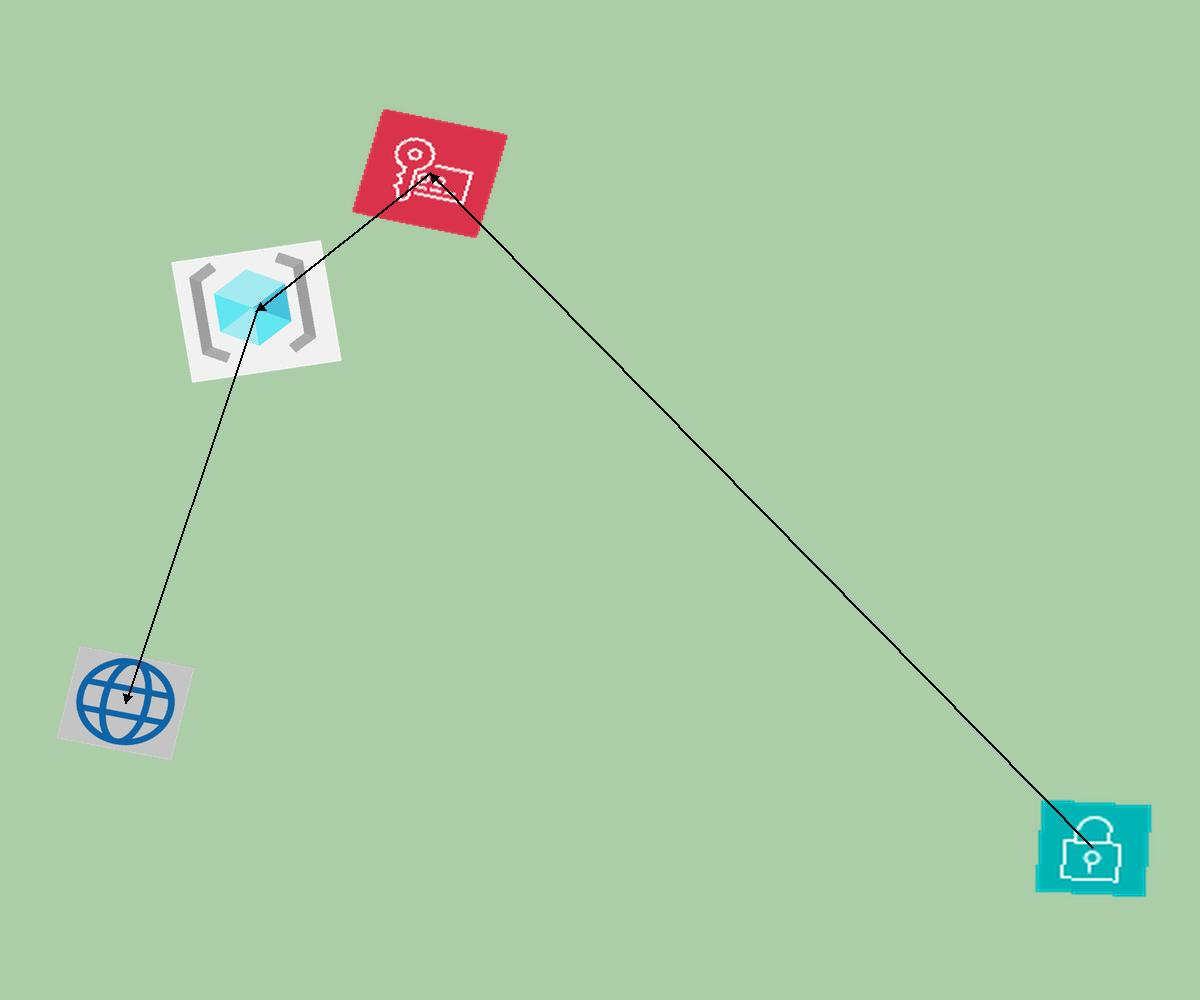AWS-Key-Management-Service: (351, 108, 509, 239)
AWS-Private-subnet: (1033, 798, 1154, 899)
Azure_http: (56, 645, 195, 761)
Azure_resource_group: (171, 240, 342, 383)
